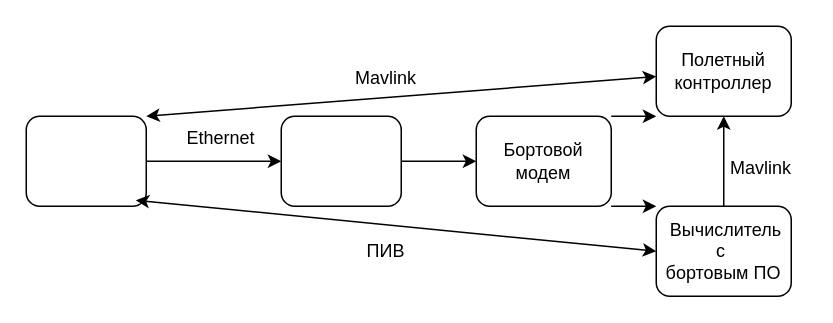
This 833x323 diagram has some shape labels left out. The box of each missing label's shape, as (x1, y1, x2, y2) in pixels:
Наземный модем: (280, 115, 401, 206)
НСУ: (25, 115, 146, 206)
